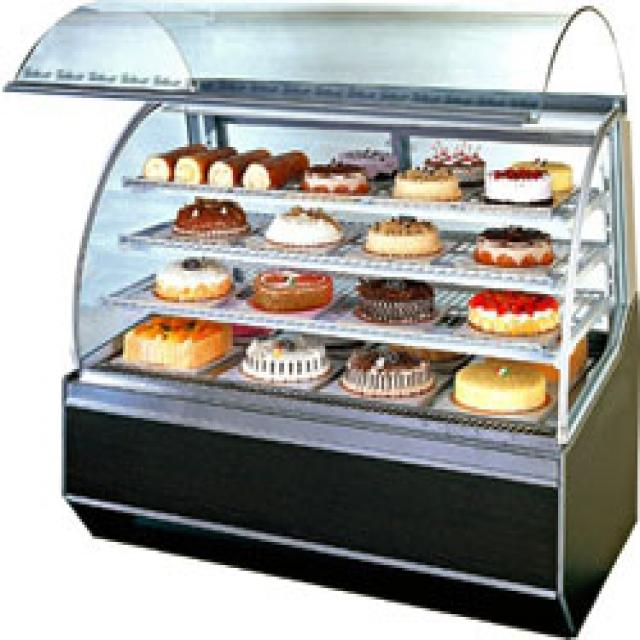cake occluded: (120, 311, 230, 366), (340, 340, 433, 395), (448, 357, 545, 409), (238, 329, 330, 381), (466, 291, 556, 334), (351, 280, 433, 320), (248, 268, 330, 308), (154, 257, 230, 297), (241, 147, 310, 187), (471, 228, 550, 262), (264, 208, 340, 242), (174, 196, 246, 231), (172, 144, 233, 185), (479, 164, 550, 199), (361, 219, 438, 251), (205, 147, 266, 187), (300, 159, 369, 193), (138, 141, 205, 176), (392, 164, 458, 199)
showcase occluded: (3, 0, 635, 634)
